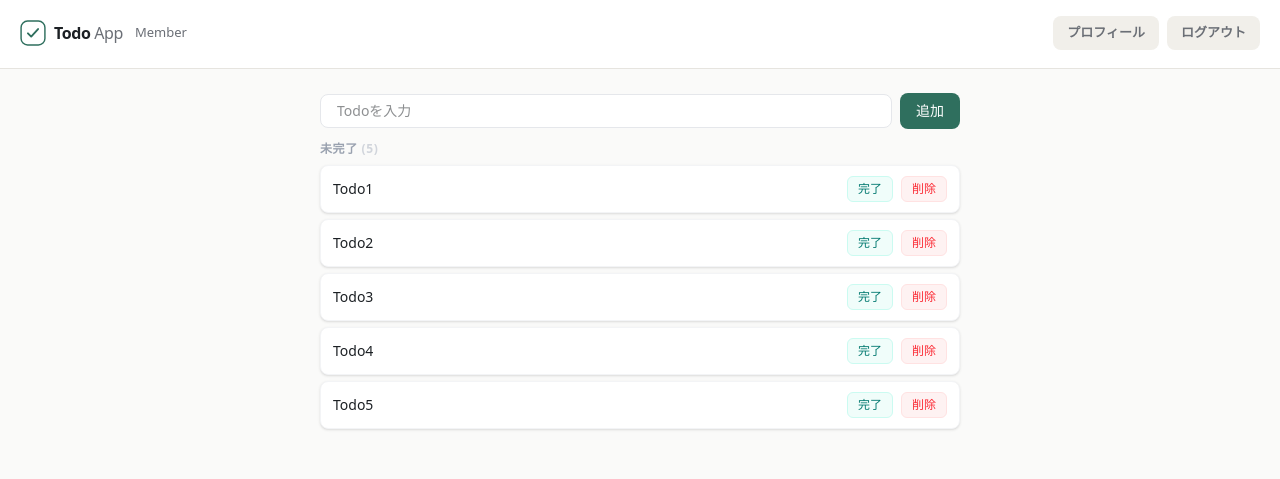
Test: TodoApp › 未完了Todoが5件の時点では追加ボタンは有効で、6件目の追加を試みると無効化され警告メッセージが表示される
Expected: the text "Todo1" is shown, [333,178,373,198]
Expected: the button "追加" is enabled, [900,92,960,128]
Step 1. Type "Todo6" into the field with placeholder "Todoを入力" → [606, 110], box [320,94,892,128]
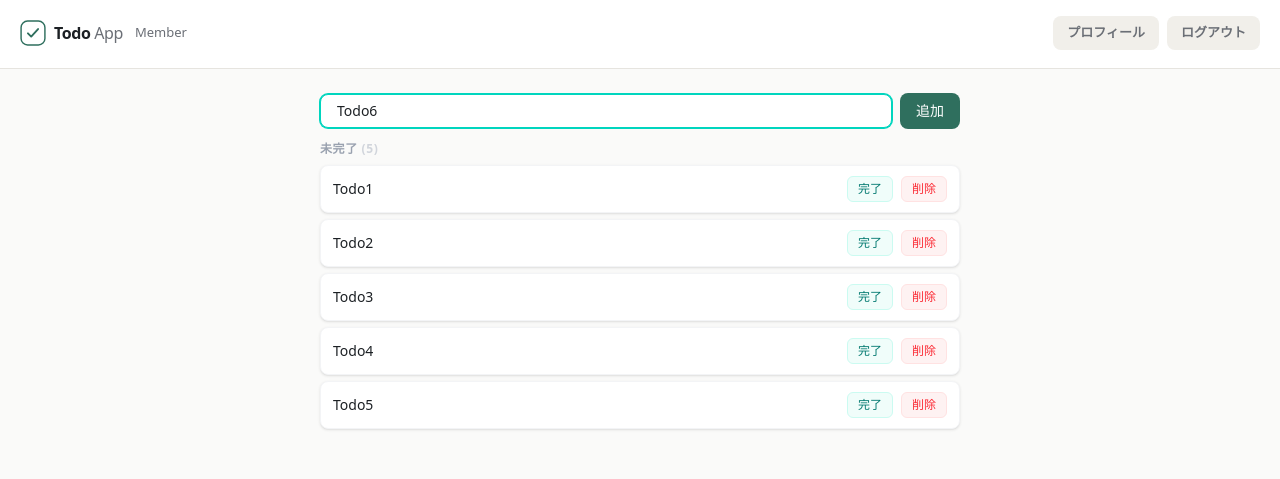
Step 2. Click the button "追加" → [930, 110], box [900,92,960,128]
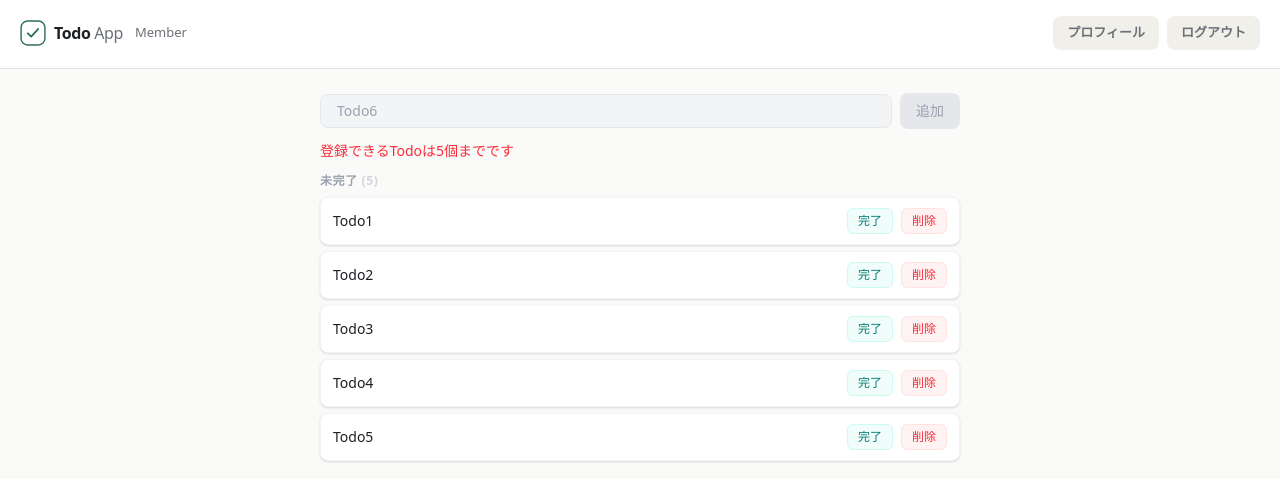
Now the button "追加" is disabled, box [900,92,960,128]
Now the text "登録できるTodoは5個までです" is shown, box [320,140,514,160]
